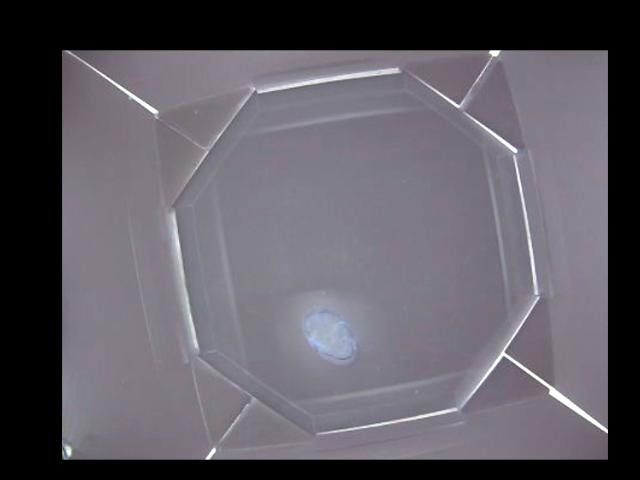Pebble: (302, 308, 356, 365)
